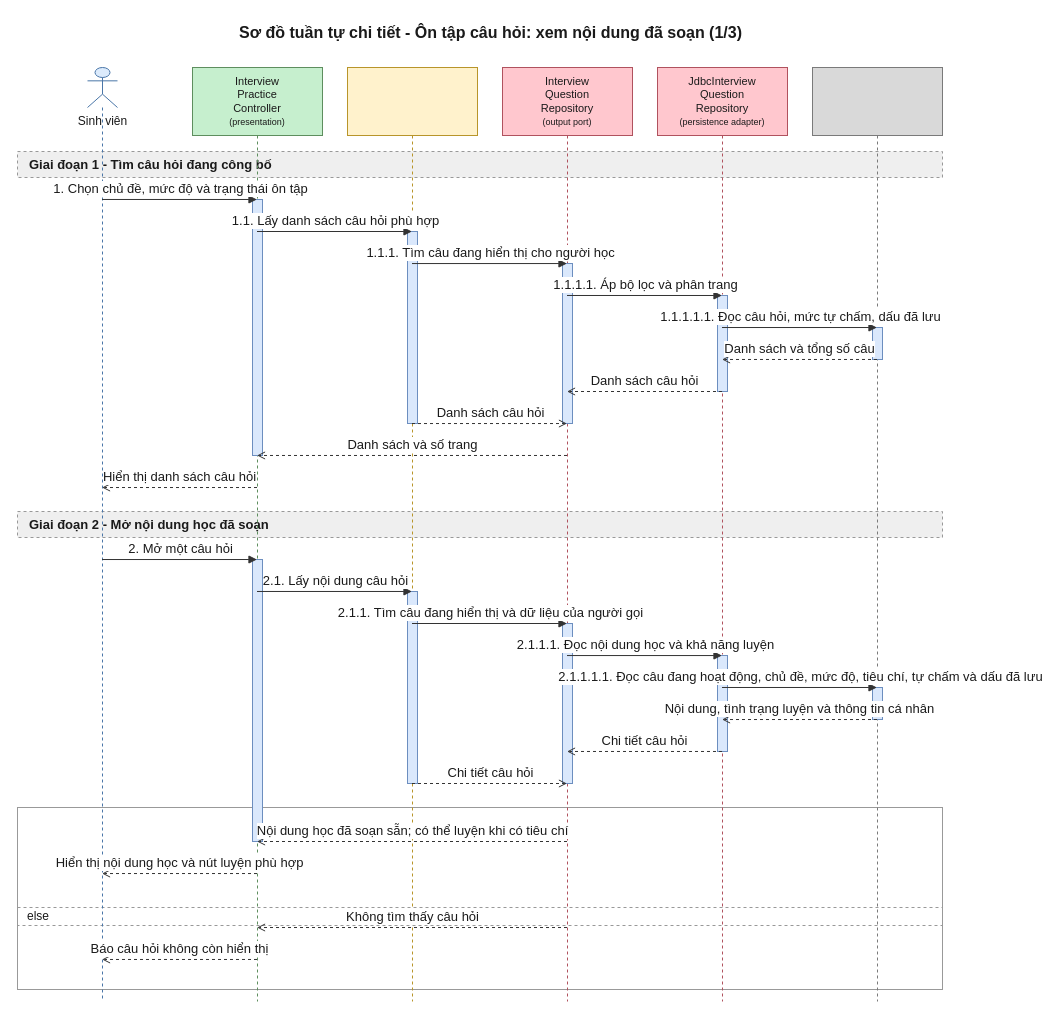
Image size: 1059x1019. Some labels were removed from this diagram. Here are the shapes that lost their labels. From the top down, the box of each, then its label:
(346, 66, 478, 1002): GetInterview QuestionQuery Handler (application query)
(812, 66, 942, 1002): PostgreSQL (schema interview_bank)
(16, 806, 942, 990): alt [Câu hỏi đang hoạt động?]
